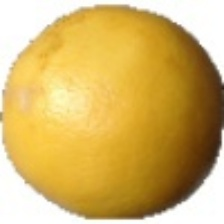grapes: (27, 24, 182, 217)
